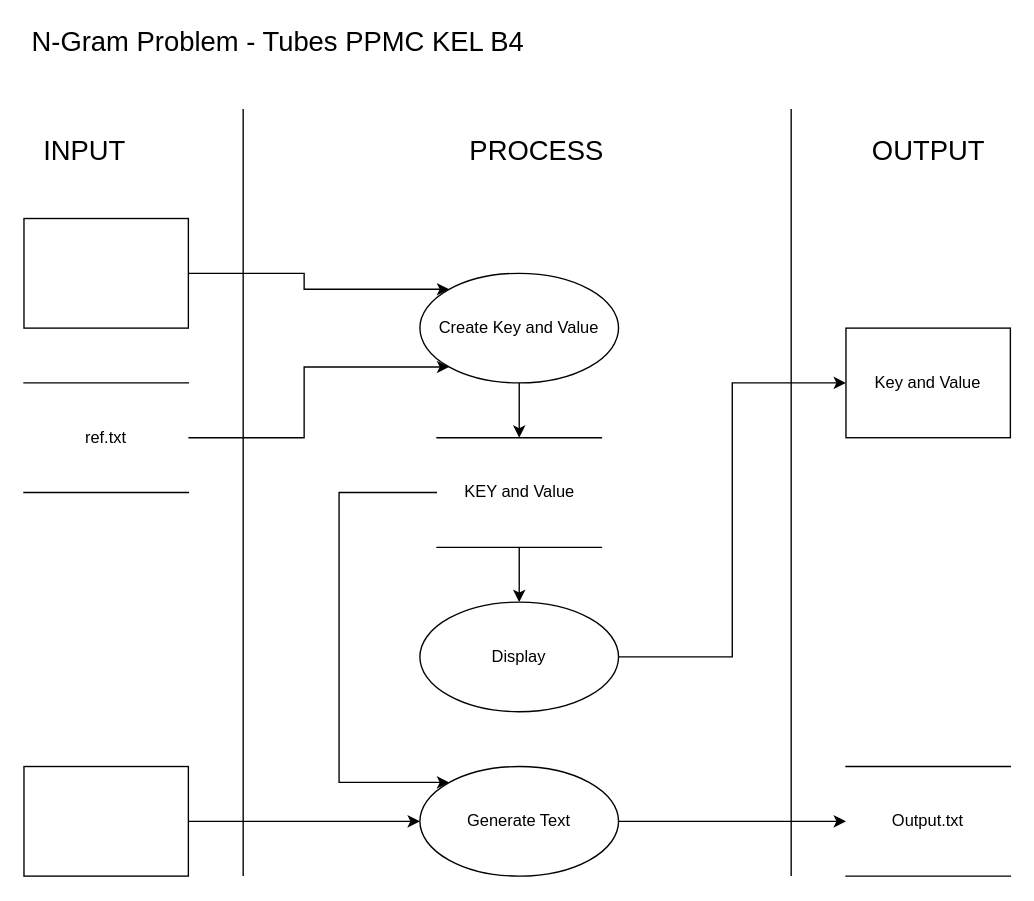
Image size: 1034x901. Some labels were removed from this diagram. Here are the shapes that lost their labels. From the top down, the centre of each, then its label:
[105,272]: int N-Gram
[105,820]: int n
